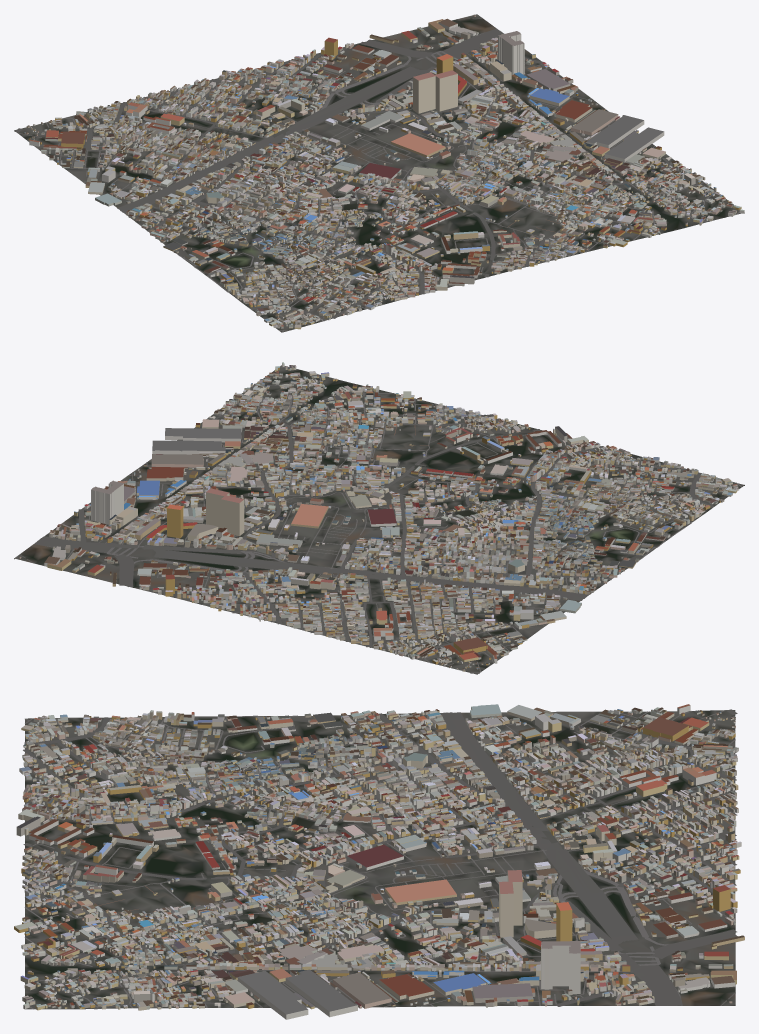
The picture shows the model from 3 angles, top to bottom: view 1: azimuth 30°, elevation 25°; view 2: azimuth 150°, elevation 25°; view 3: azimuth 270°, elevation 25°; orthographic projection. The views are drawn at different scales.
Visible parts, largest first — view 1: buildings, ground, roads; view 2: buildings, ground, roads; view 3: buildings, ground, roads.
Boxes of the visible parts, box(x1,y1,x2,y2) form: buildings: box(24, 14, 744, 329); ground: box(14, 14, 744, 332); roads: box(15, 18, 739, 332); buildings: box(19, 362, 739, 671); ground: box(14, 365, 744, 674); roads: box(19, 367, 744, 673); buildings: box(14, 704, 744, 1019); ground: box(25, 710, 735, 1009); roads: box(23, 709, 737, 1009).
Size of the model in its own units: 1479 by 122 by 1441.
